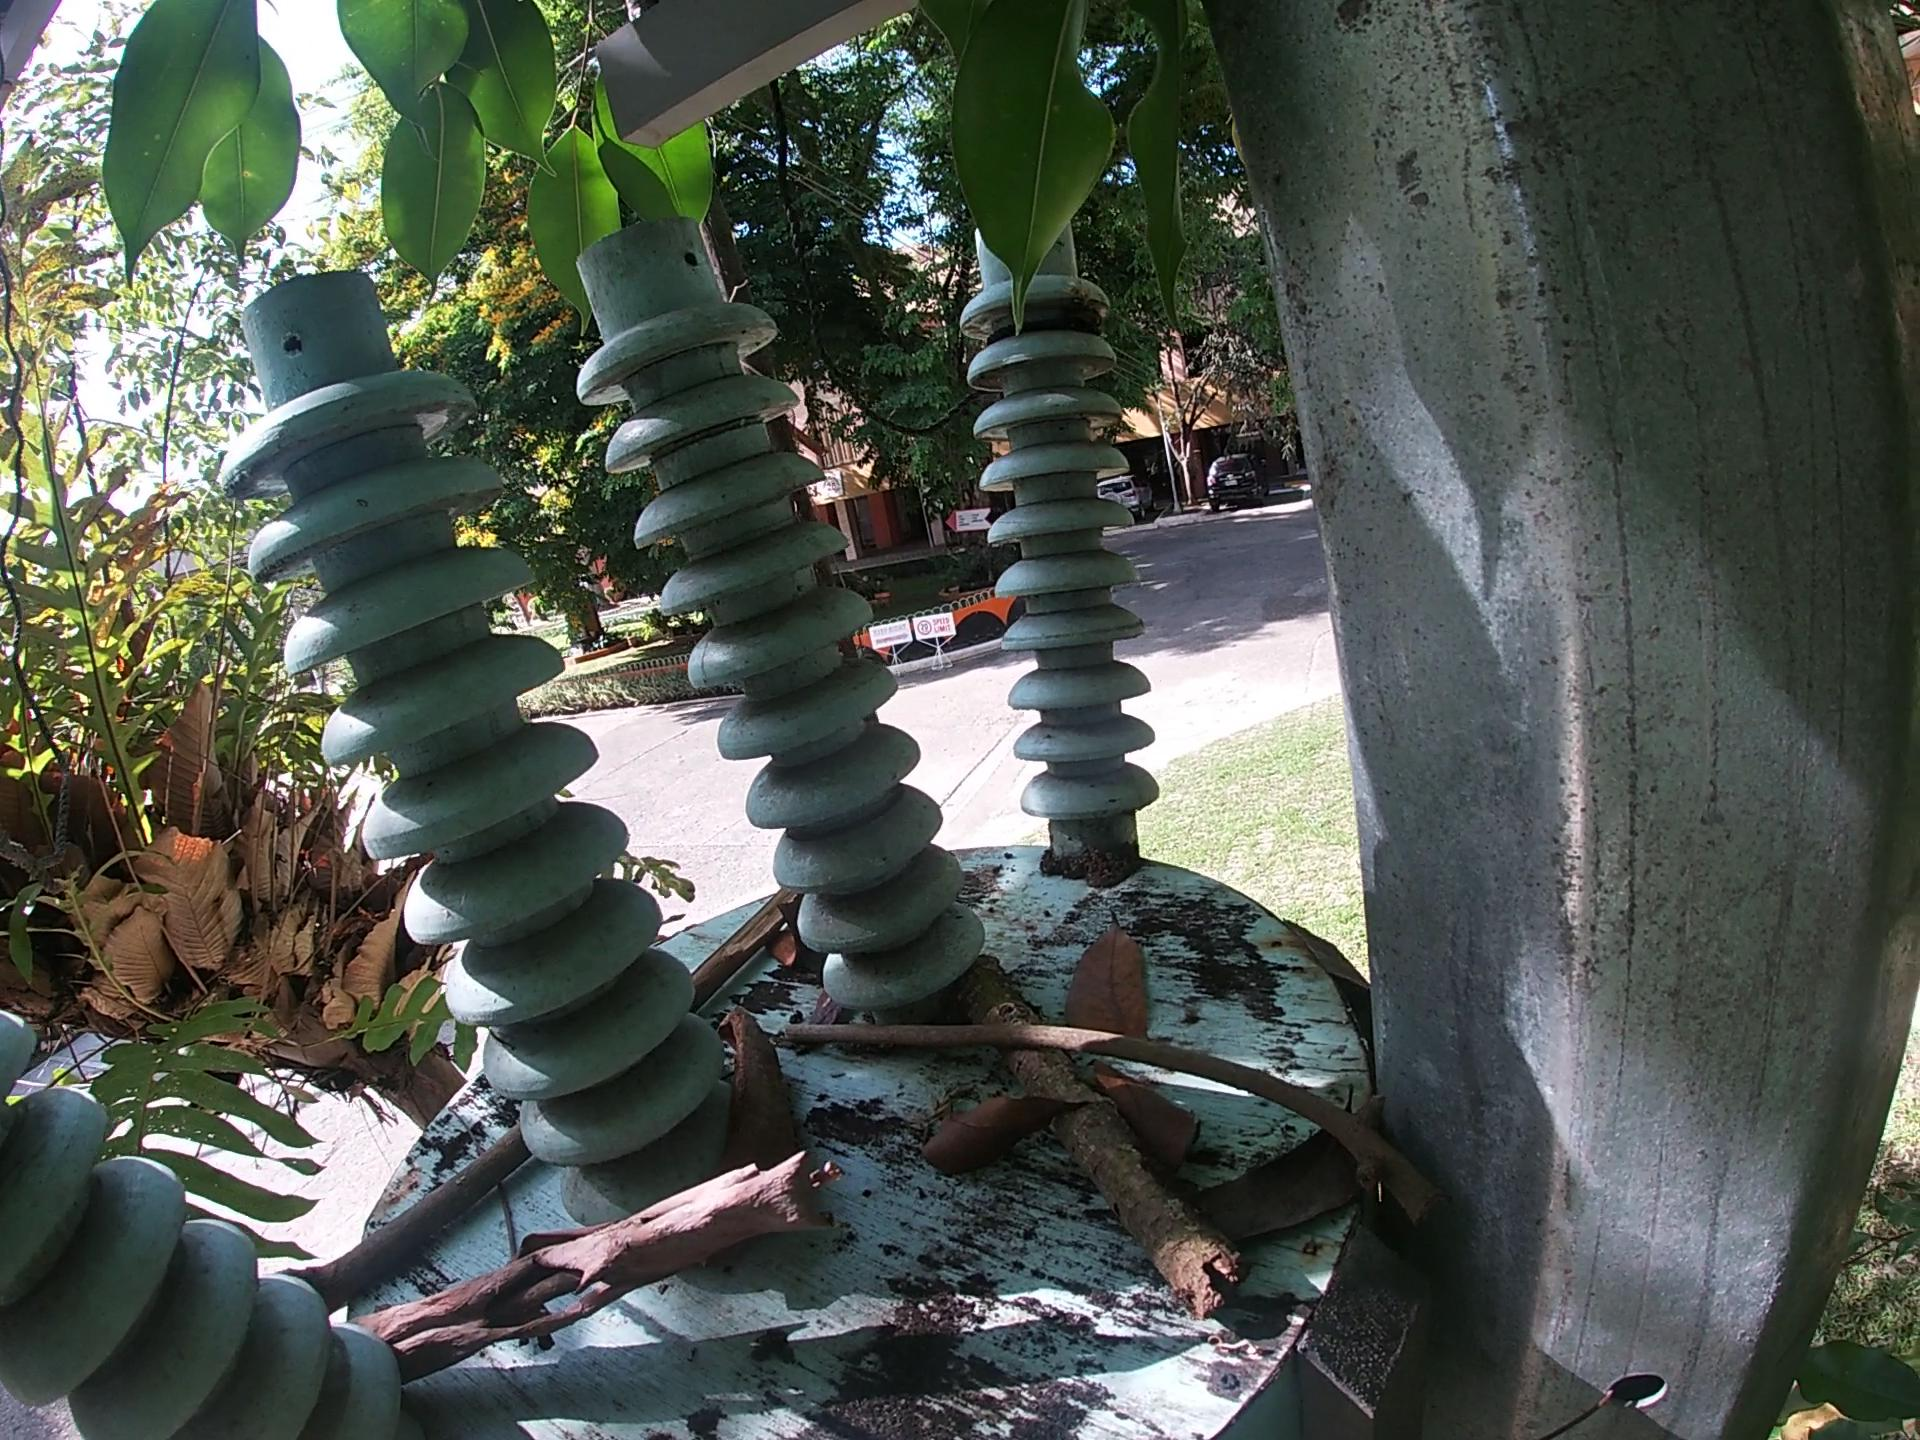leaf: (1215, 1097, 1417, 1231), (1061, 898, 1181, 1041), (930, 1092, 1125, 1171), (1093, 1048, 1200, 1157)
mahogany fruit: (714, 989, 780, 1157), (774, 892, 813, 979)
tree branch: (779, 1023, 1456, 1207), (358, 1137, 866, 1378), (977, 965, 1285, 1339), (296, 1119, 550, 1301), (683, 882, 785, 1010), (481, 1187, 522, 1258)
